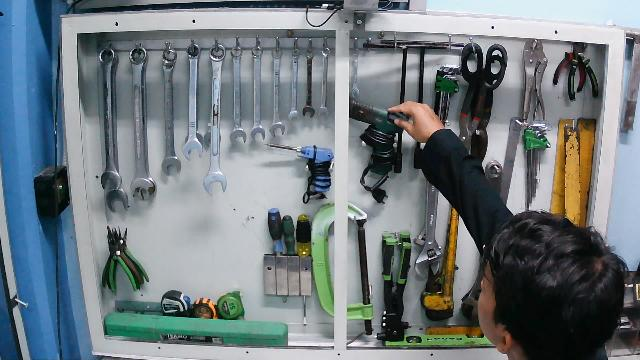gun_lem: (349, 95, 414, 206)
